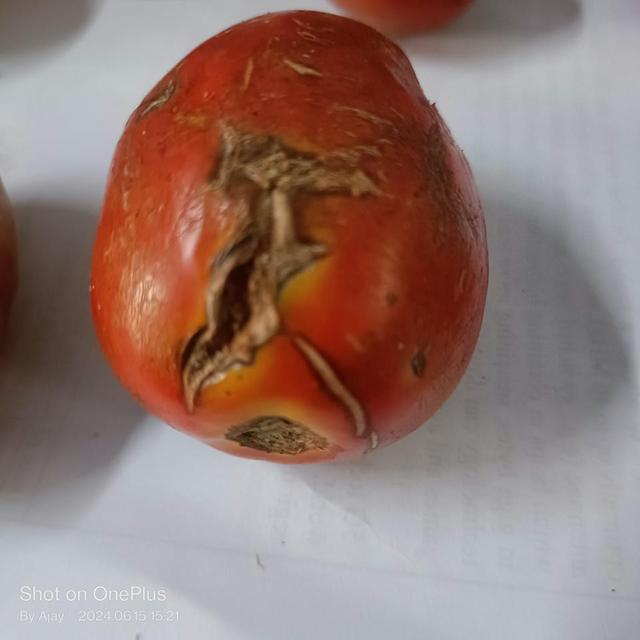Cracking Fruit: (58, 62, 204, 195)
